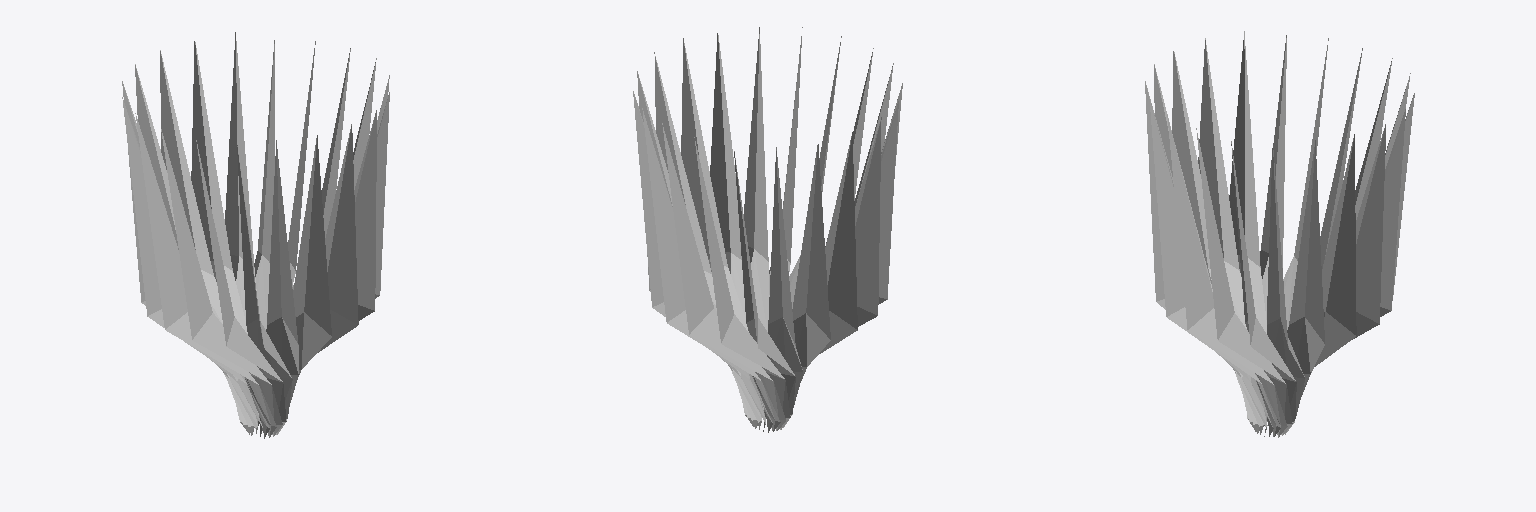
Rendered from lotus_inner.obj.
The picture shows the model from 3 angles: view 1: azimuth 30°, elevation 25°; view 2: azimuth 150°, elevation 25°; view 3: azimuth 270°, elevation 25°; orthographic projection.
Parts seen in each view (by area): view 1: Obj_000001; view 2: Obj_000001; view 3: Obj_000001.
Part boxes in pixels (x1,y1,x2,y2): Obj_000001: (122, 32, 389, 438); Obj_000001: (633, 27, 902, 432); Obj_000001: (1145, 31, 1414, 437).
Bounding box in the file's own units: 0.8112 × 1.16 × 0.8112.